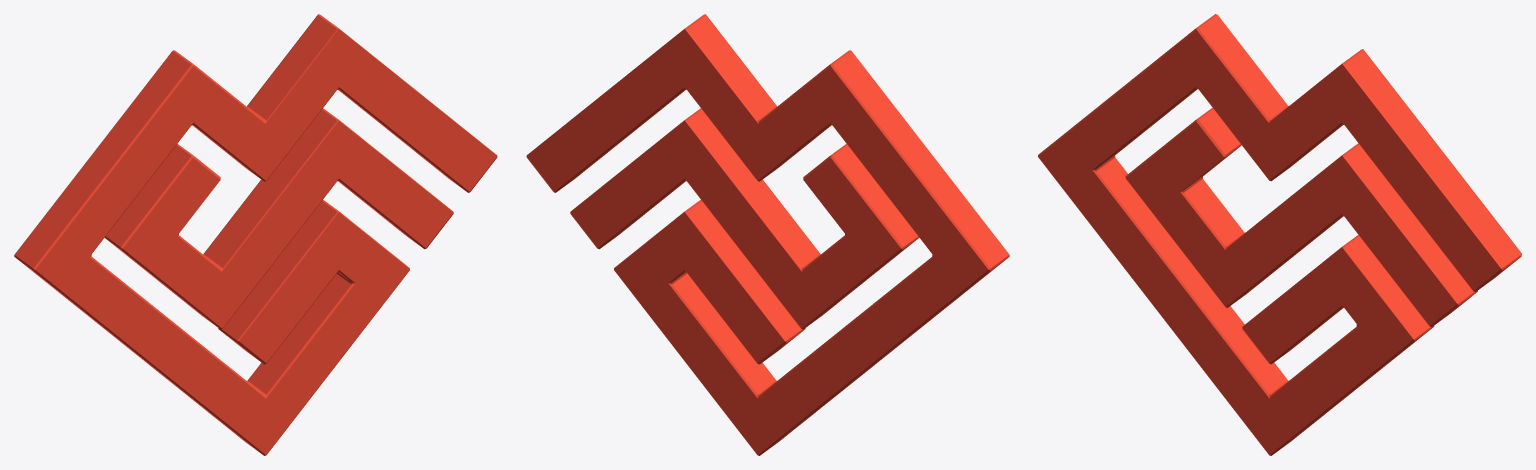
The model's file is heart.glb.
The picture shows the model from 3 angles, left to right: view 1: azimuth 30°, elevation 25°; view 2: azimuth 150°, elevation 25°; view 3: azimuth 330°, elevation 25°; orthographic projection.
Visible parts, largest first — view 1: Heart; view 2: Heart; view 3: Heart.
Boxes of the visible parts, x1,y1,x2,y2 form: Heart: (14, 14, 497, 455); Heart: (526, 14, 1009, 455); Heart: (1038, 14, 1521, 455).
Size of the model in its own units: 1.56 by 1.31 by 0.12.
